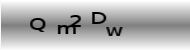2: (69, 14, 82, 27)
D: (90, 11, 107, 24)
Q: (29, 16, 45, 32)
m: (57, 24, 77, 35)
w: (105, 25, 124, 36)
